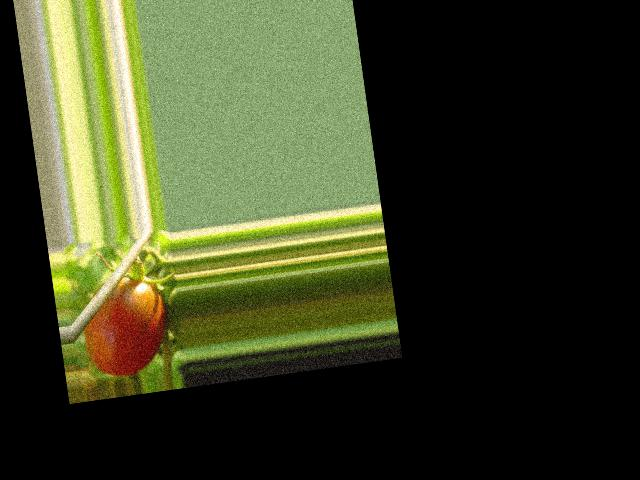tomato: (78, 272, 171, 380)
